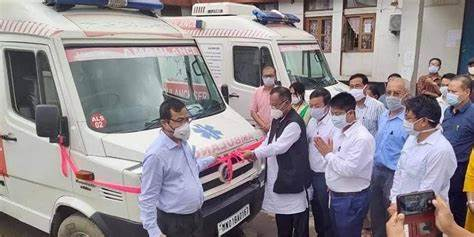ambulance: (3, 9, 275, 237), (184, 1, 385, 193)
